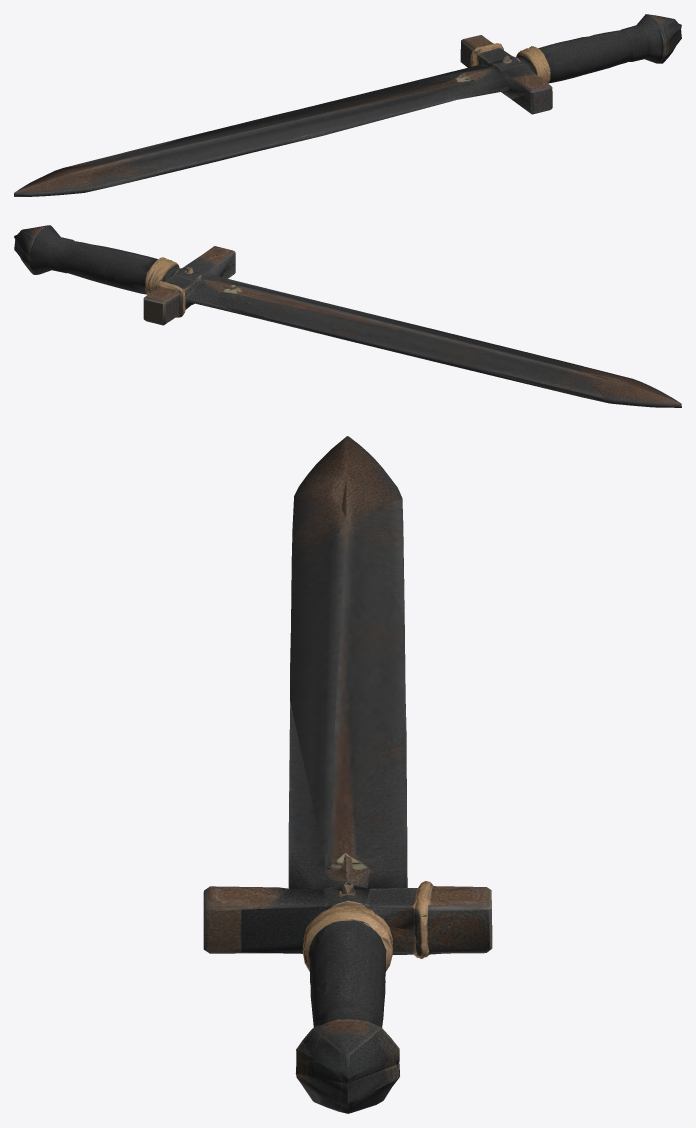
Rendered from modelo.fbx.
3 views of the same model, one above another, from view 1: azimuth 30°, elevation 25°; view 2: azimuth 150°, elevation 25°; view 3: azimuth 270°, elevation 25° (orthographic). The views are drawn at different scales.
Parts seen in each view (by area): view 1: Mesh_0; view 2: Mesh_0; view 3: Mesh_0.
Part boxes in pixels (x1,y1,x2,y2): Mesh_0: (14,14,681,196); Mesh_0: (14,225,681,407); Mesh_0: (203,436,492,1113).
Bounding box in the file's own units: 190 × 12.01 × 35.64.
1 material, 1 textured.
